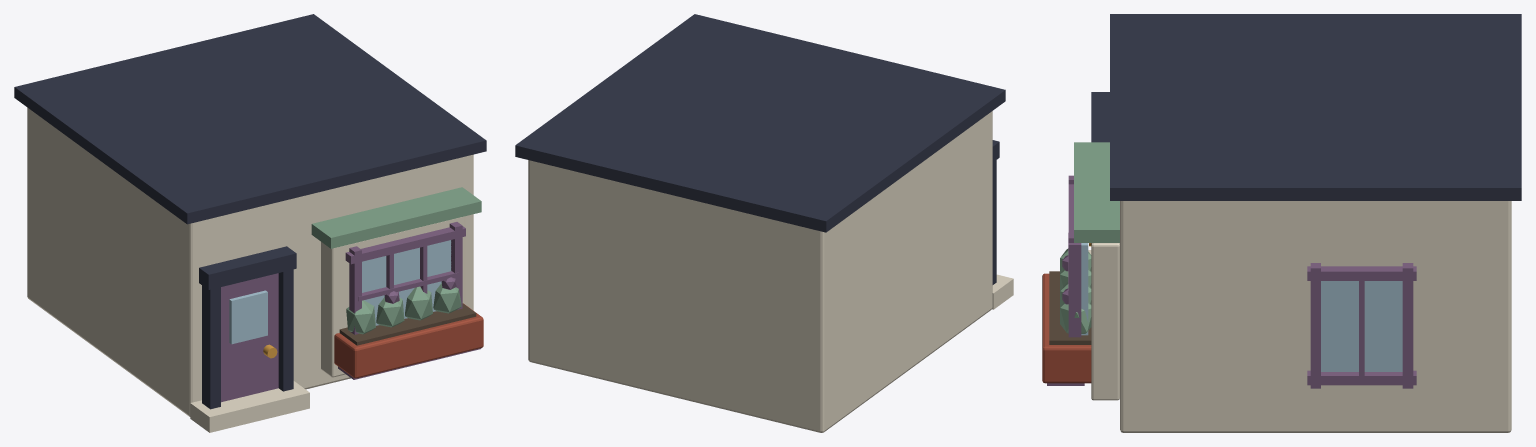
Rendered from floor_gardens_1.glb.
3 views of the same model, side by side, from view 1: azimuth 30°, elevation 25°; view 2: azimuth 150°, elevation 25°; view 3: azimuth 270°, elevation 25° (orthographic). The views are drawn at different scales.
Visible parts, largest first — view 1: floor_gardens_1 ink, floor_gardens_1 mist, floor_gardens_1 patina, floor_gardens_1 pine, floor_gardens_1 clay, floor_gardens_1 glass, floor_gardens_1 soil, floor_gardens_1 leaf; view 2: floor_gardens_1 mist, floor_gardens_1 ink; view 3: floor_gardens_1 mist, floor_gardens_1 ink, floor_gardens_1 patina, floor_gardens_1 glass, floor_gardens_1 pine, floor_gardens_1 clay, floor_gardens_1 soil.
Boxes of the visible parts, <box> form: floor_gardens_1 ink: <box>14,14,486,409</box>; floor_gardens_1 mist: <box>27,107,473,432</box>; floor_gardens_1 patina: <box>221,222,481,402</box>; floor_gardens_1 pine: <box>311,187,481,327</box>; floor_gardens_1 clay: <box>334,303,483,378</box>; floor_gardens_1 glass: <box>229,240,451,344</box>; floor_gardens_1 soil: <box>339,303,476,345</box>; floor_gardens_1 leaf: <box>346,286,432,334</box>; floor_gardens_1 mist: <box>528,111,1013,432</box>; floor_gardens_1 ink: <box>515,14,1005,284</box>; floor_gardens_1 mist: <box>1088,201,1511,432</box>; floor_gardens_1 ink: <box>1091,14,1521,200</box>; floor_gardens_1 patina: <box>1047,175,1416,388</box>; floor_gardens_1 glass: <box>1081,243,1402,371</box>; floor_gardens_1 pine: <box>1060,142,1119,333</box>; floor_gardens_1 clay: <box>1042,273,1091,383</box>; floor_gardens_1 soil: <box>1049,271,1091,344</box>.
Bounding box in the file's own units: 0.7345 × 0.48 × 0.8325.
